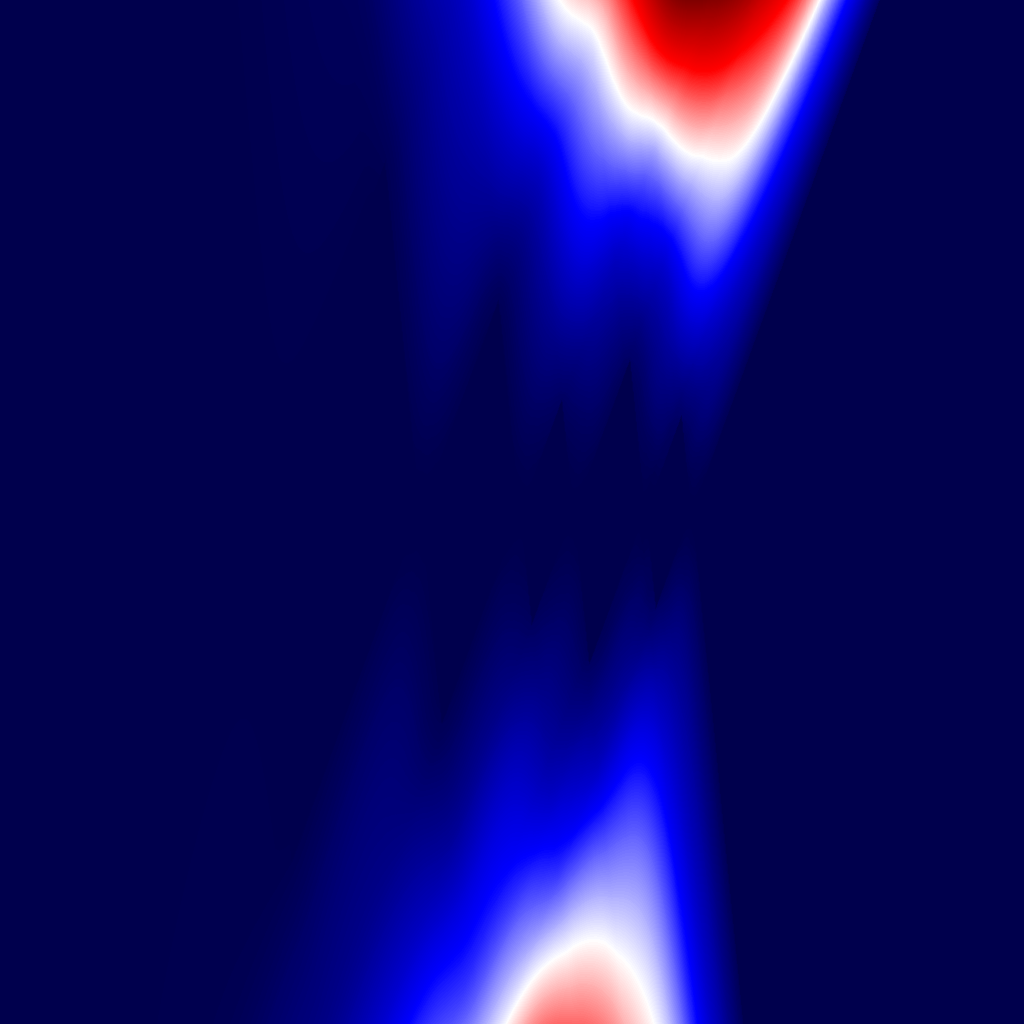diamond: (260, 160, 423, 864), (424, 298, 523, 726), (577, 358, 649, 666), (524, 398, 577, 626), (649, 414, 695, 610)
